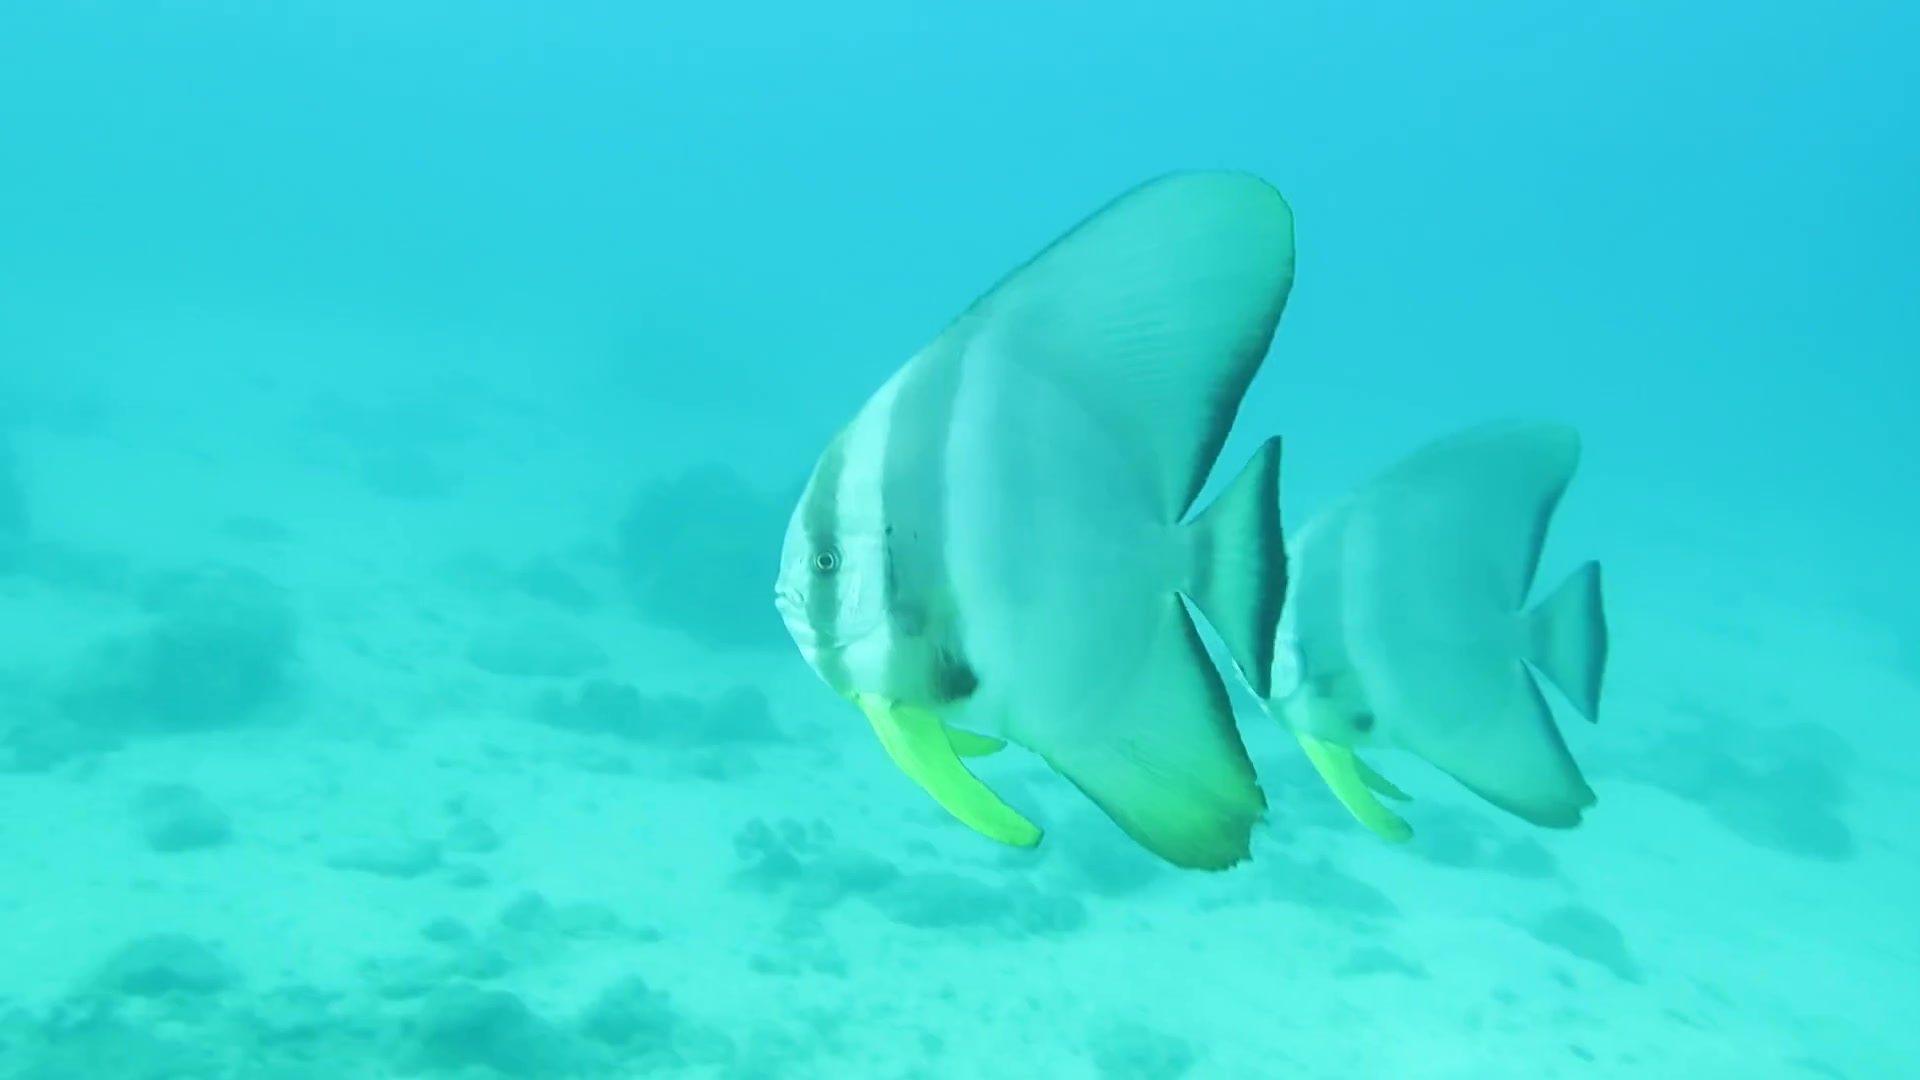Platax teira: (646, 158, 1364, 907)
